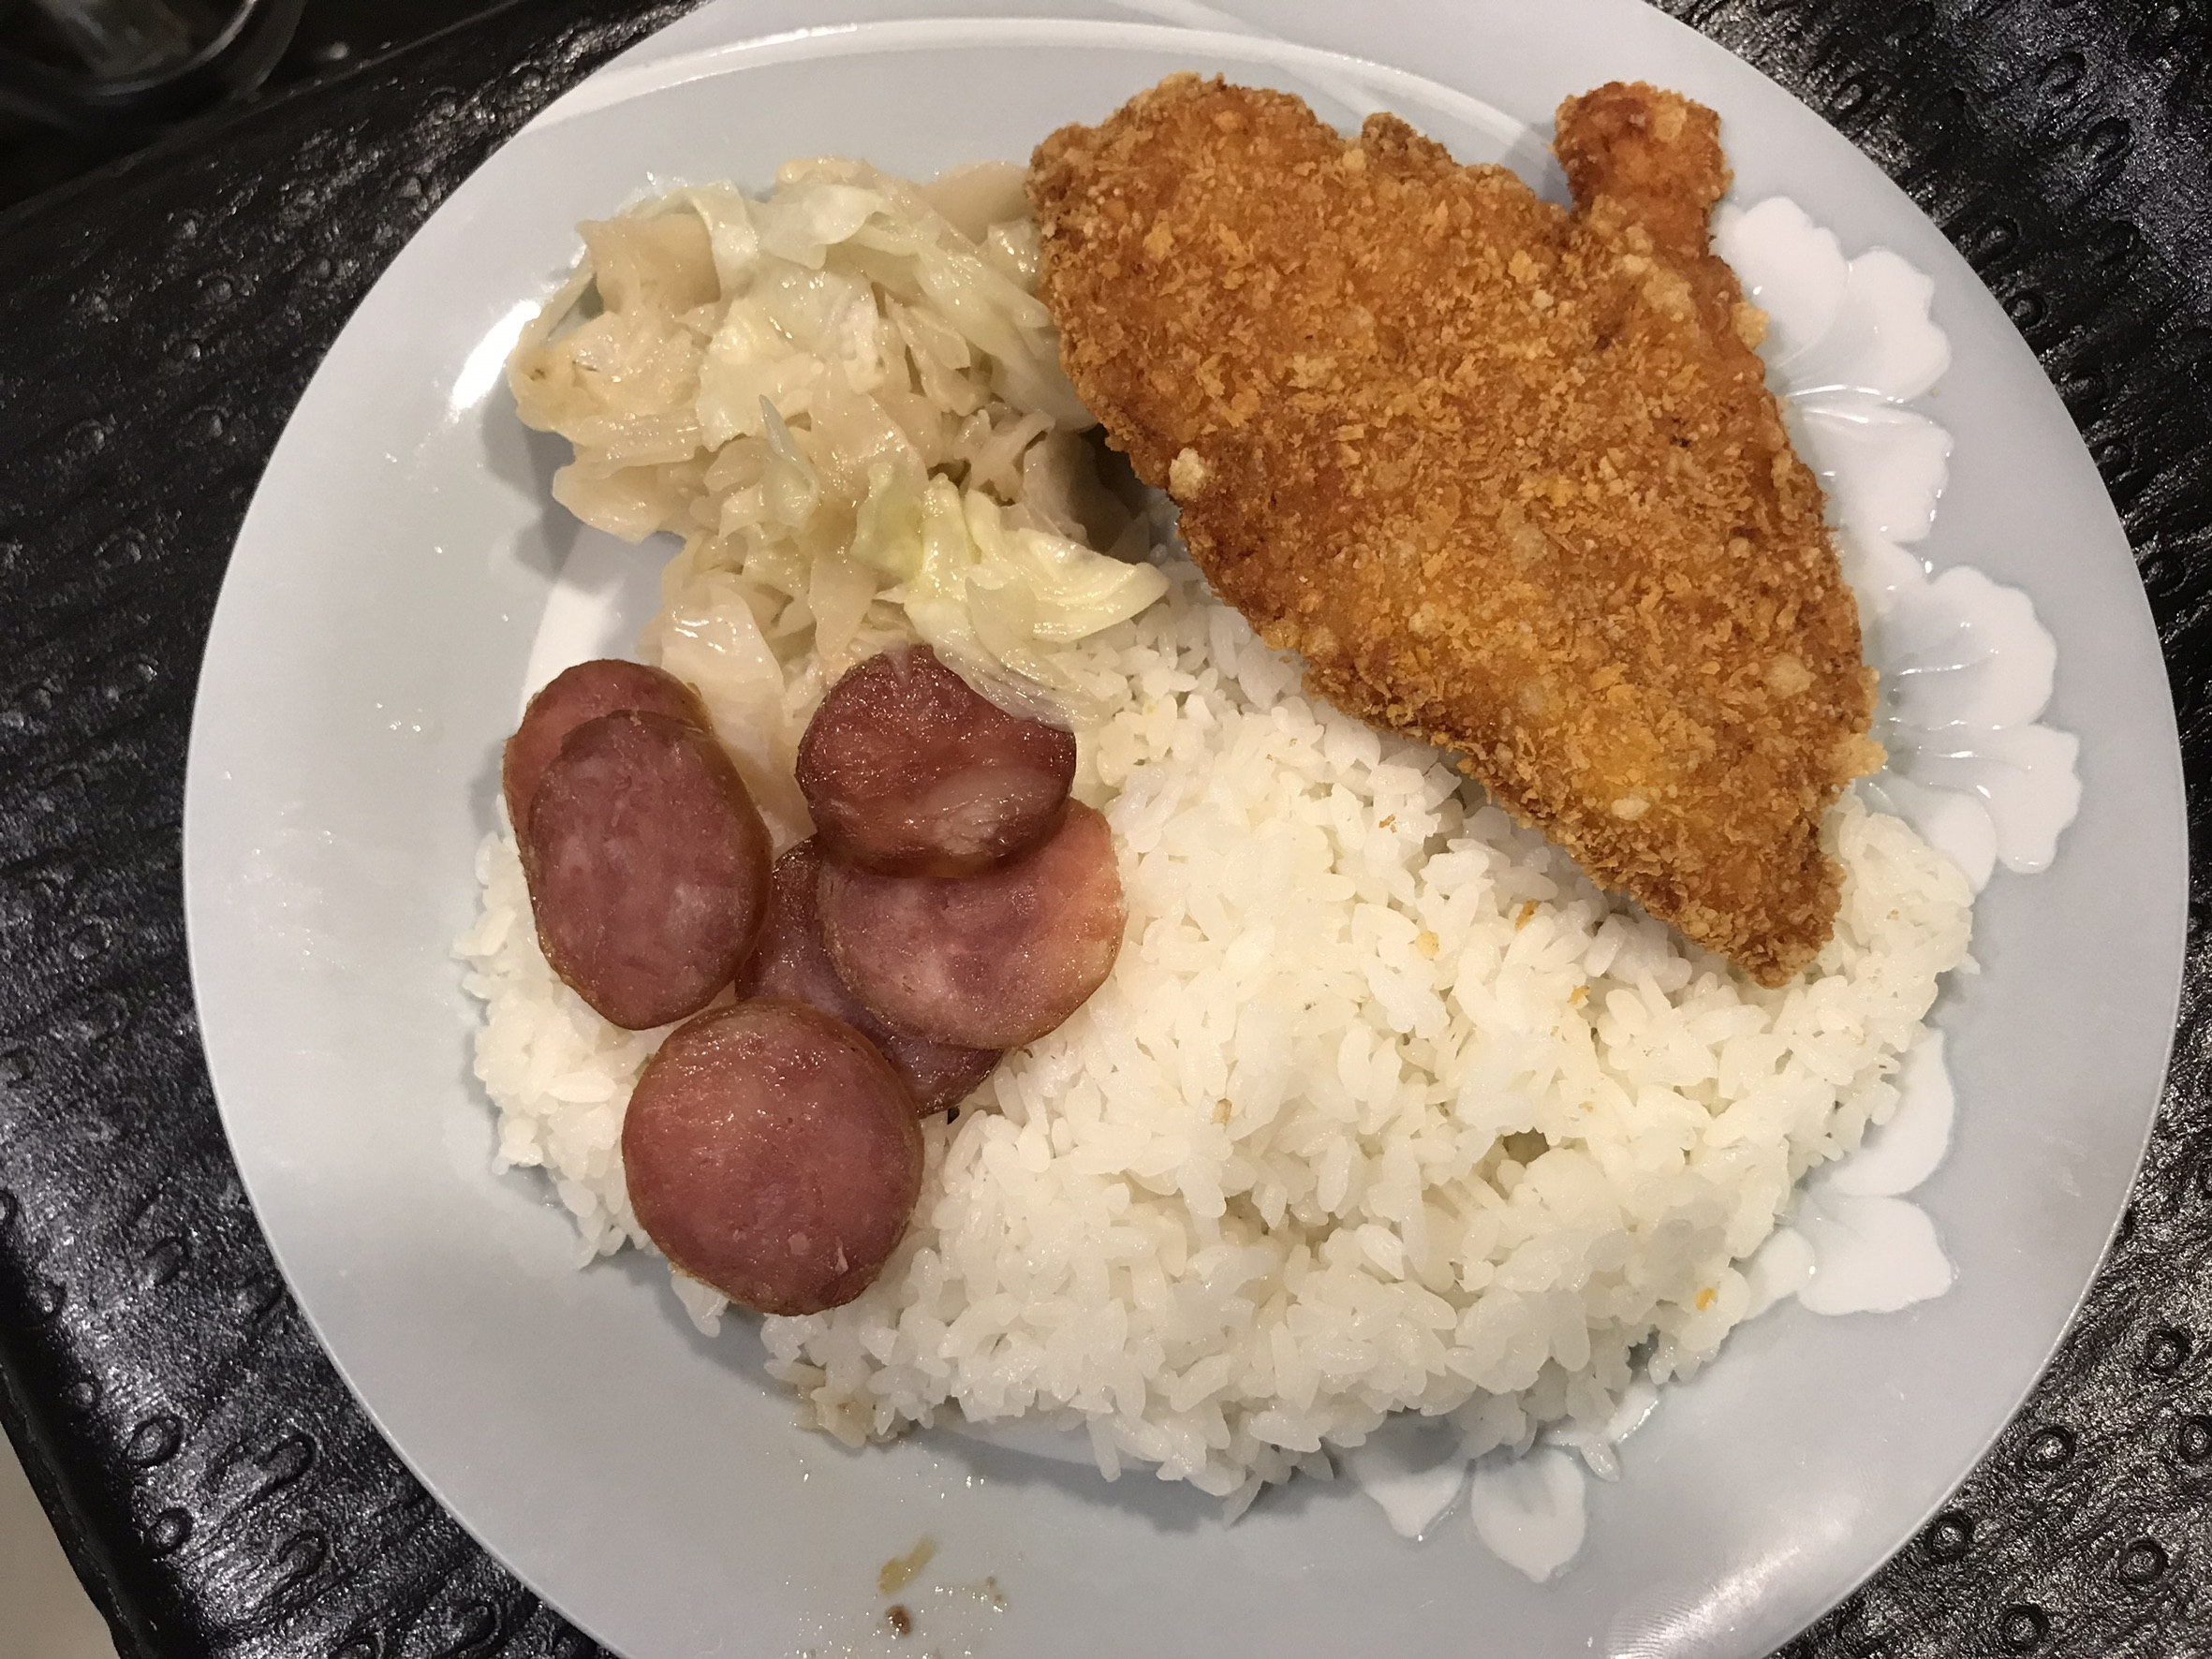chinese_cabbage: (586, 213, 1041, 671)
chinese_sausage: (514, 669, 1130, 1319)
fried_chicken: (1041, 89, 1862, 920)
rice: (1130, 878, 1639, 1452)
